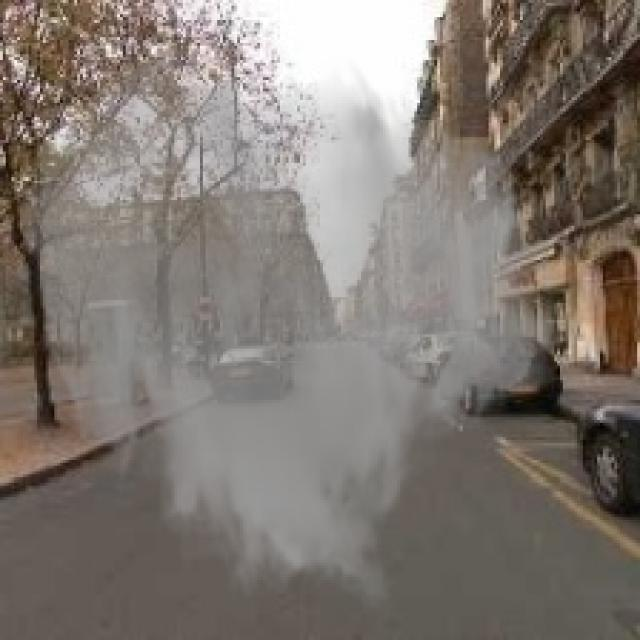smoke: (11, 46, 560, 611)
